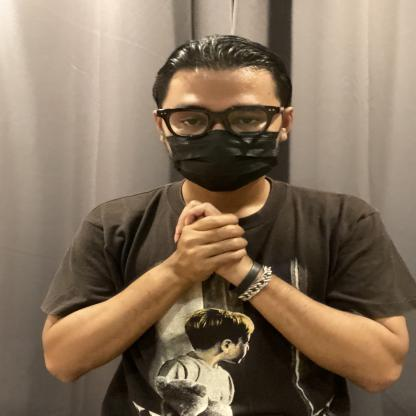Grieve: (67, 194, 334, 290)
